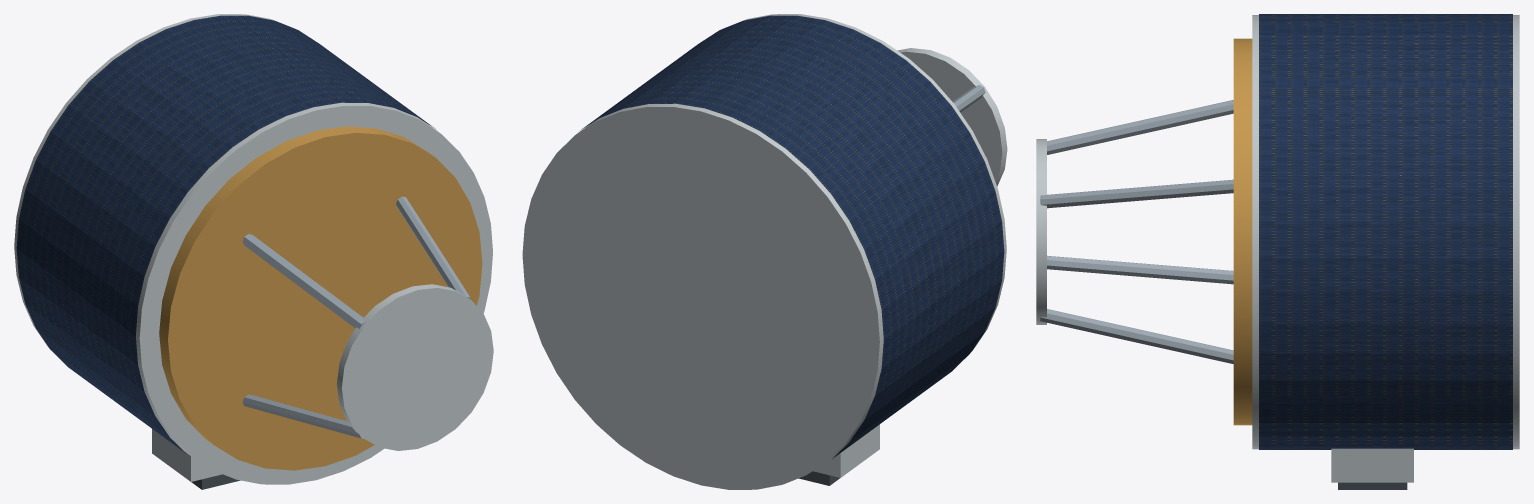
The model's file is msg.glb.
3 views of the same model, side by side, from view 1: azimuth 30°, elevation 25°; view 2: azimuth 150°, elevation 25°; view 3: azimuth 270°, elevation 25° (orthographic). The views are drawn at different scales.
Parts seen in each view (by area): view 1: Despun equipment deck, Body-mounted solar cells, Solar drum core, Antenna tower platform, Antenna tower leg (×3), Radiometer window surround; view 2: Solar drum core, Body-mounted solar cells, Antenna tower platform, Radiometer window surround; view 3: Body-mounted solar cells, Antenna tower leg (×4), Despun equipment deck, Solar drum core, Radiometer window surround, Antenna tower platform, Radiometer viewing port.
Part boxes in pixels (<box>): Despun equipment deck: <box>159,126,482,470</box>; Body-mounted solar cells: <box>16,15,435,453</box>; Solar drum core: <box>14,14,492,484</box>; Antenna tower platform: <box>336,284,493,450</box>; Antenna tower leg (×3): <box>242,196,471,438</box>; Radiometer window surround: <box>152,429,221,481</box>; Solar drum core: <box>522,14,1006,489</box>; Body-mounted solar cells: <box>580,15,1004,458</box>; Antenna tower platform: <box>897,48,1007,186</box>; Radiometer window surround: <box>813,424,879,477</box>; Body-mounted solar cells: <box>1259,14,1512,449</box>; Antenna tower leg (×4): <box>1040,100,1233,363</box>; Despun equipment deck: <box>1233,38,1252,425</box>; Solar drum core: <box>1252,15,1519,449</box>; Radiometer window surround: <box>1331,448,1413,482</box>; Antenna tower platform: <box>1036,139,1046,324</box>; Radiometer viewing port: <box>1338,482,1407,489</box>.
Size of the model in its own units: 3.21 by 3.39 by 3.56.
5 materials, 1 textured.
